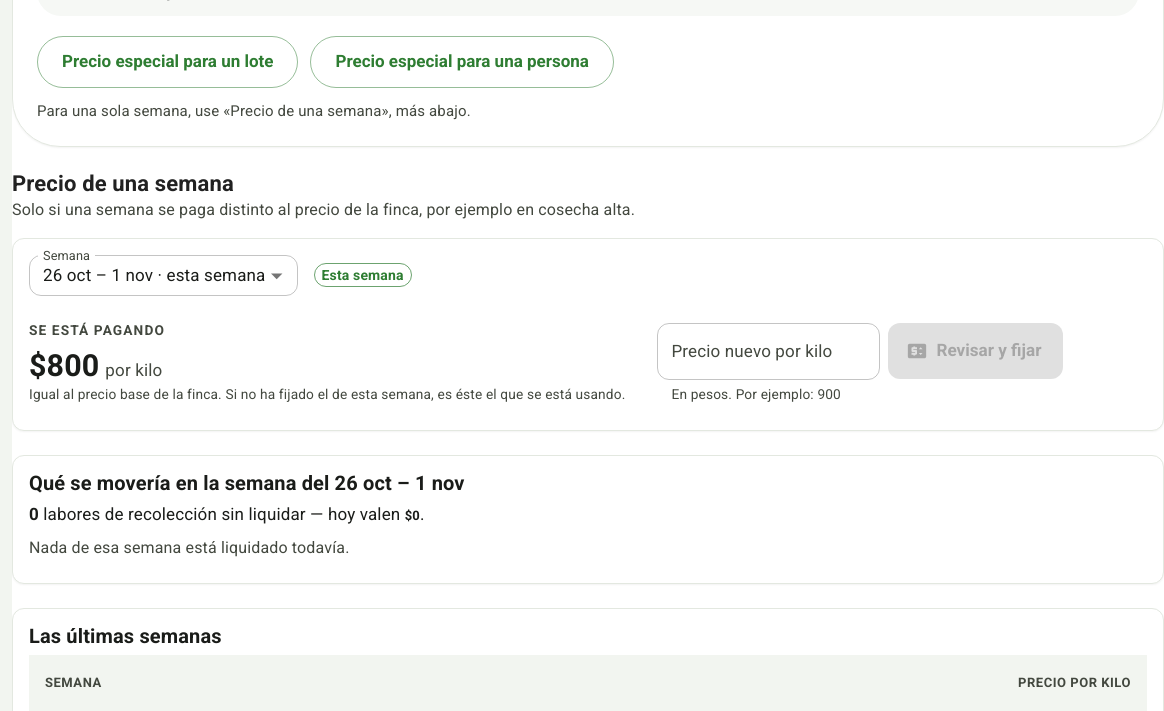
Test case: the new price › has to be more than zero
(page scrolled)
Type "0" into the field labelled "Precio nuevo por kilo". click: (769, 351)
box: [657,323,880,380]
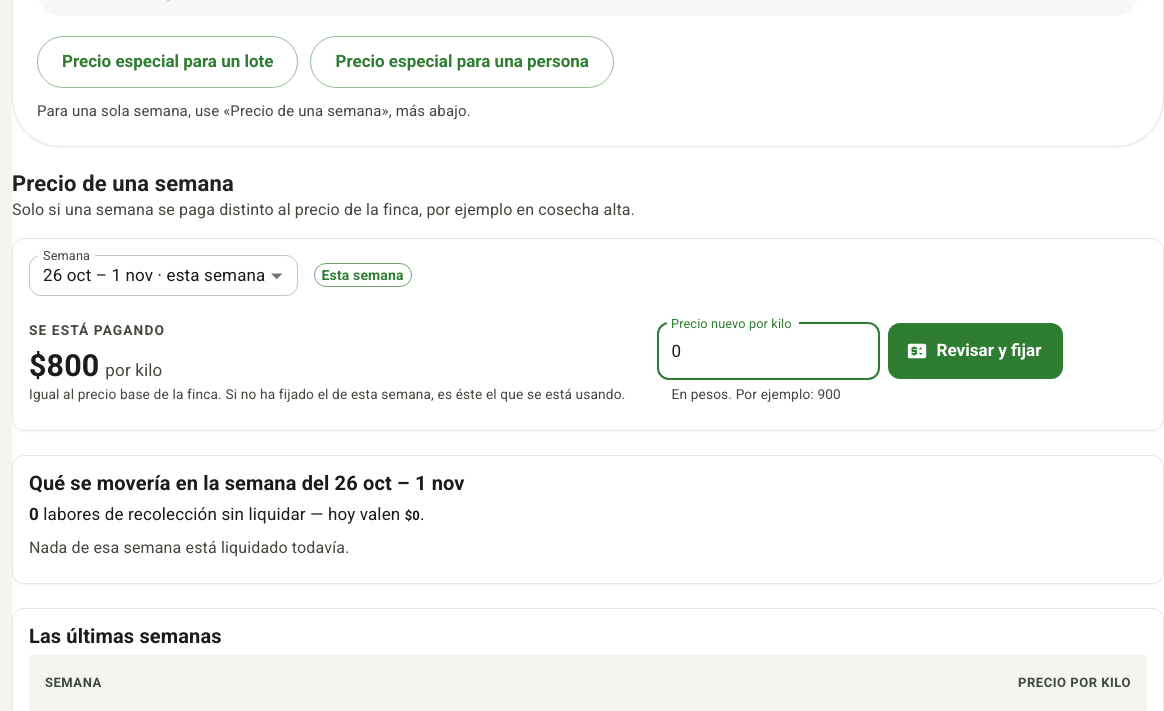
Click the button "Revisar y fijar". click: (976, 351)
box: [888,323,1063,379]
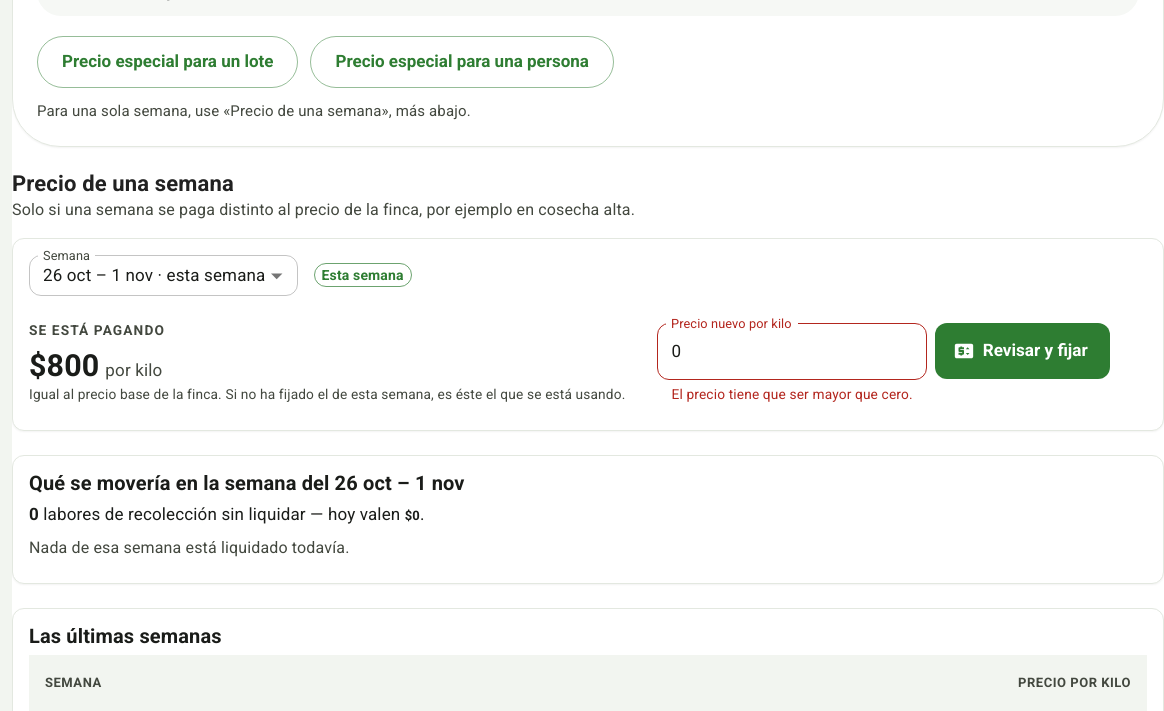
Now the text "El precio tiene que ser mayor que cero." is shown, box [671,383,913,406]
